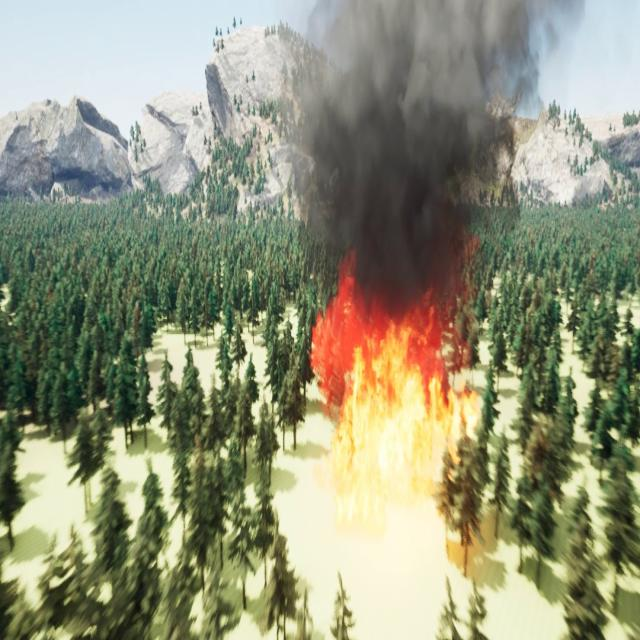fire: (307, 288, 479, 531)
smoke: (289, 0, 588, 291)
